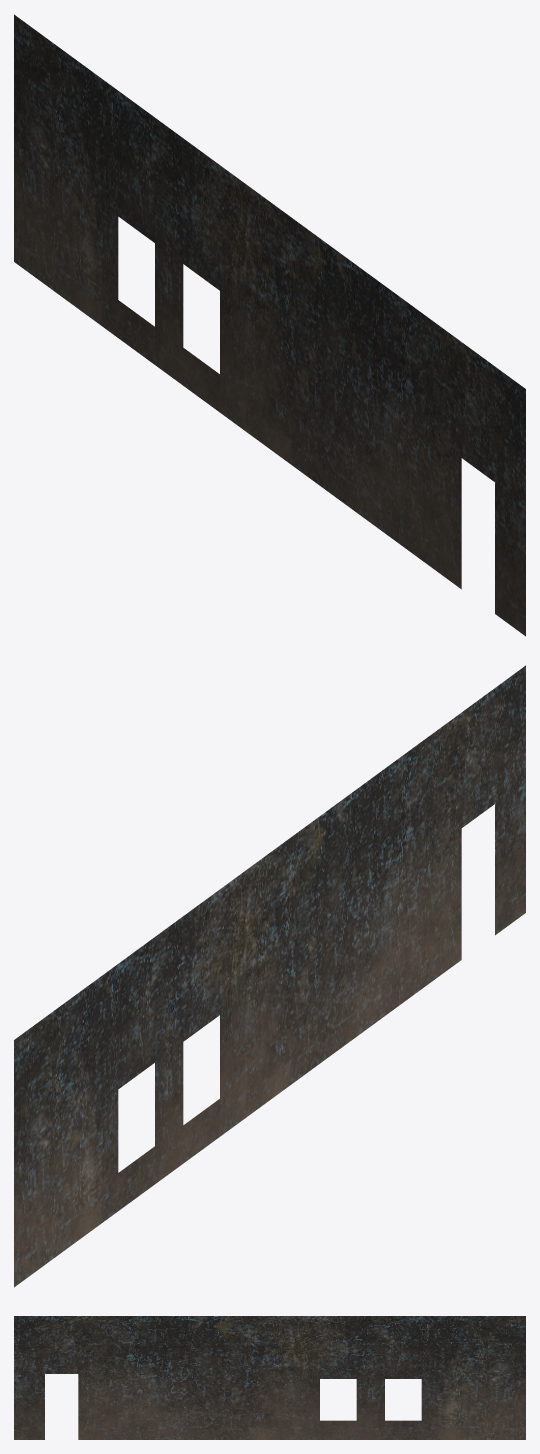
File: Wall_06.FBX
The picture shows the model from 3 angles, top to bottom: view 1: azimuth 30°, elevation 25°; view 2: azimuth 150°, elevation 25°; view 3: azimuth 270°, elevation 25°; orthographic projection. The views are drawn at different scales.
Parts seen in each view (by area): view 1: Wall_06; view 2: Wall_06; view 3: Wall_06.
Boxes of the visible parts, <box> form: Wall_06: <box>14,14,525,636</box>; Wall_06: <box>14,665,525,1287</box>; Wall_06: <box>14,1316,525,1439</box>.
Bounding box in the file's own units: 0.00227 × 511 × 1917.
